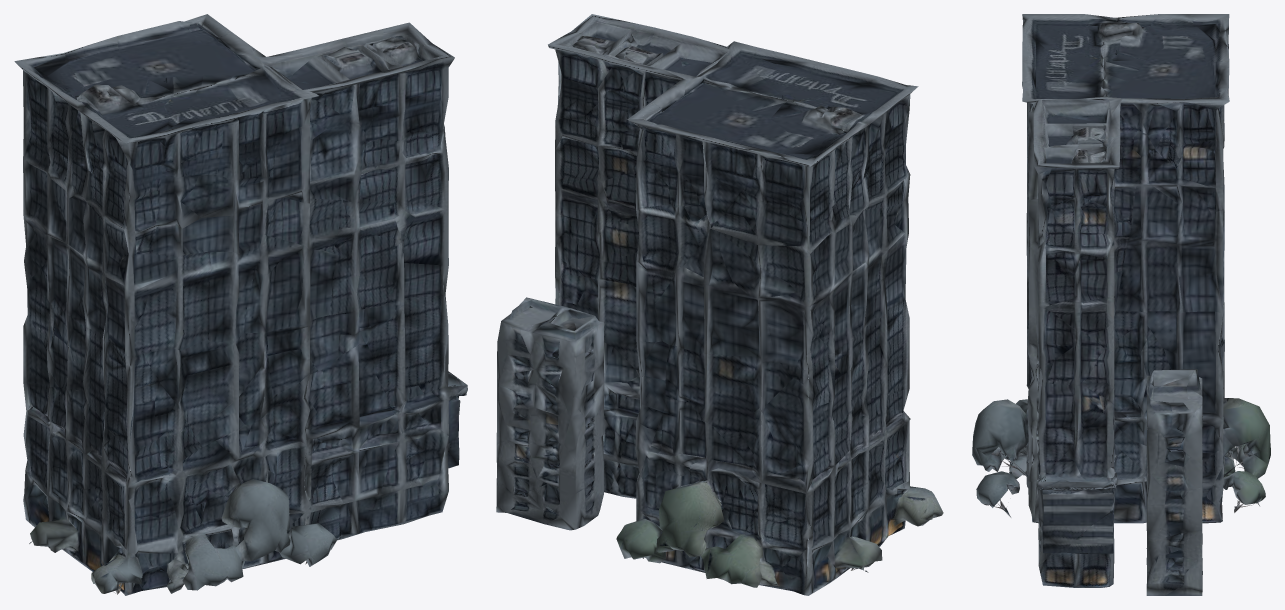
Rendered from tower_f.glb.
The picture shows the model from 3 angles, left to right: view 1: azimuth 30°, elevation 25°; view 2: azimuth 150°, elevation 25°; view 3: azimuth 270°, elevation 25°; orthographic projection. The views are drawn at different scales.
Size of the model in its own units: 1.58 by 1.86 by 1.17.
Materials: 1 (1 with a texture image).
